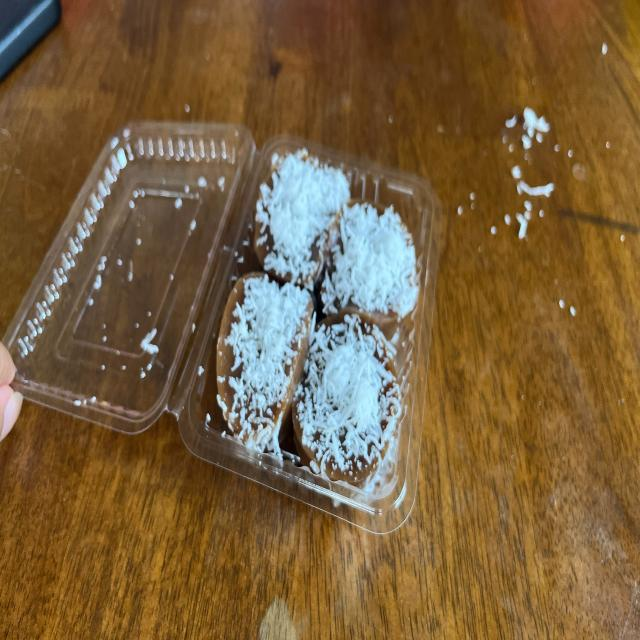Kuih lompang: (292, 316, 401, 484), (216, 273, 314, 456), (321, 202, 419, 338), (255, 149, 350, 289)
